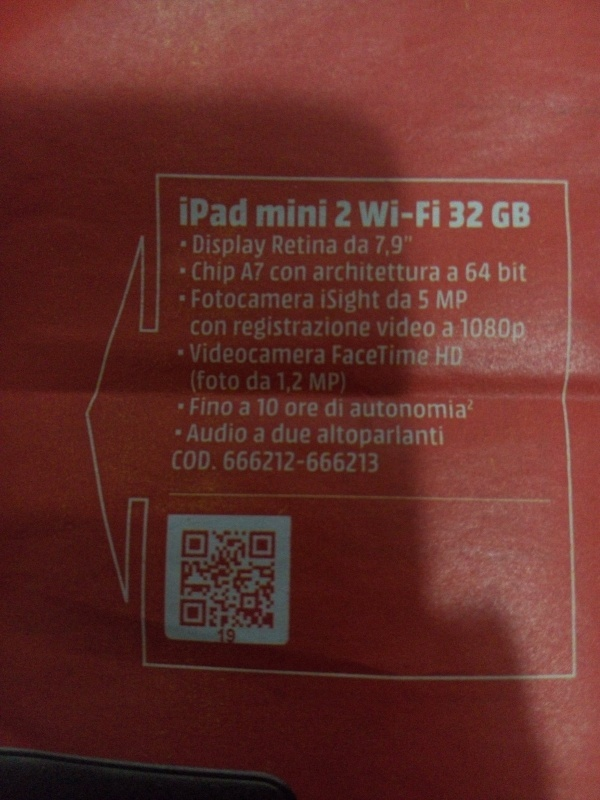text: (369, 196, 384, 230), (385, 196, 399, 230), (193, 196, 208, 227), (209, 196, 224, 227), (225, 196, 240, 227), (337, 200, 352, 231), (257, 198, 272, 228), (273, 198, 288, 228), (289, 198, 304, 228), (305, 198, 320, 228), (417, 199, 432, 227), (465, 202, 480, 229), (497, 203, 512, 230), (513, 203, 528, 230), (193, 368, 208, 394), (209, 368, 224, 394), (225, 368, 240, 394), (450, 202, 464, 229), (465, 321, 480, 346), (481, 321, 496, 346), (497, 321, 512, 346), (209, 234, 224, 259), (225, 234, 240, 259), (241, 234, 256, 259), (180, 196, 192, 227), (321, 423, 336, 447), (337, 423, 352, 447), (353, 423, 368, 447), (369, 423, 384, 447), (385, 423, 400, 447), (401, 423, 416, 447), (417, 423, 432, 447), (241, 317, 256, 341), (257, 317, 272, 341), (273, 317, 288, 341), (289, 317, 304, 341), (305, 317, 320, 341), (321, 317, 336, 341), (337, 317, 352, 341), (353, 317, 368, 341), (193, 287, 208, 311), (209, 287, 224, 311), (225, 287, 240, 311), (241, 287, 256, 311), (257, 287, 272, 311), (273, 287, 288, 311), (289, 287, 304, 311), (385, 232, 400, 256), (193, 450, 209, 472), (194, 234, 208, 259), (321, 451, 336, 474), (337, 451, 352, 474), (353, 451, 368, 474), (321, 372, 336, 395), (289, 370, 304, 393), (449, 287, 464, 310), (193, 262, 208, 285), (209, 262, 224, 285), (358, 196, 368, 230), (225, 451, 240, 473), (241, 451, 256, 473), (257, 451, 272, 473), (273, 451, 288, 473), (177, 450, 192, 472), (321, 261, 336, 283), (337, 261, 352, 283), (353, 261, 368, 283), (369, 261, 384, 283), (385, 261, 400, 283), (401, 261, 416, 283), (417, 261, 432, 283), (467, 258, 480, 283), (321, 235, 337, 255), (273, 424, 288, 445), (289, 424, 304, 445), (193, 396, 208, 417), (209, 396, 224, 417), (193, 345, 208, 366), (209, 345, 224, 366), (225, 345, 240, 366), (241, 345, 256, 366), (257, 345, 272, 366), (273, 345, 288, 366), (289, 345, 304, 366), (305, 345, 320, 366), (337, 345, 352, 366), (353, 345, 368, 366), (369, 345, 384, 366), (385, 345, 400, 366), (401, 345, 416, 366), (513, 263, 528, 284), (321, 290, 336, 311), (337, 290, 352, 311), (353, 290, 368, 311), (258, 396, 272, 418), (193, 424, 208, 444), (209, 424, 224, 444), (225, 424, 240, 444), (513, 321, 525, 346), (353, 235, 368, 255), (273, 235, 288, 255), (289, 235, 304, 255), (305, 235, 320, 255), (418, 290, 432, 311), (387, 289, 400, 311), (193, 318, 208, 337), (209, 318, 224, 337), (308, 451, 320, 474), (257, 372, 270, 393), (499, 263, 512, 284), (353, 402, 368, 420), (369, 402, 384, 420), (385, 402, 400, 420), (401, 402, 416, 420), (417, 402, 432, 420), (433, 402, 448, 420), (385, 320, 400, 338), (401, 320, 416, 338), (417, 320, 432, 338), (433, 423, 444, 447), (289, 401, 304, 418), (273, 265, 288, 282), (289, 265, 304, 282), (325, 396, 336, 419), (245, 260, 256, 283), (417, 345, 429, 366), (481, 258, 491, 283), (257, 234, 267, 259), (369, 290, 380, 311), (369, 451, 379, 474), (310, 372, 320, 395), (278, 370, 288, 393), (438, 287, 448, 310), (225, 262, 235, 285), (436, 347, 448, 366), (449, 347, 461, 366), (433, 199, 441, 227), (305, 401, 318, 418), (401, 289, 411, 311), (241, 196, 248, 227), (305, 287, 314, 311), (337, 372, 346, 395), (247, 372, 256, 393), (257, 260, 265, 283), (321, 198, 327, 228), (225, 629, 235, 647), (377, 232, 384, 256), (337, 396, 344, 419), (289, 451, 296, 473), (241, 403, 251, 418), (225, 396, 232, 417), (345, 235, 352, 255), (433, 261, 439, 283), (449, 267, 457, 283), (305, 424, 311, 445), (377, 320, 384, 338), (241, 424, 247, 444), (235, 317, 240, 341), (273, 396, 278, 418), (492, 203, 496, 230), (218, 629, 224, 647), (257, 429, 264, 443), (316, 261, 320, 283), (321, 345, 325, 366), (443, 323, 448, 339), (461, 321, 464, 346), (465, 287, 468, 310), (333, 345, 336, 366), (481, 202, 483, 229), (529, 203, 531, 230), (318, 423, 320, 447), (449, 323, 452, 339), (369, 317, 371, 341), (174, 450, 176, 472), (297, 460, 304, 466), (190, 345, 192, 366), (433, 320, 435, 338), (286, 401, 288, 418), (401, 232, 402, 256), (225, 318, 226, 337), (351, 402, 352, 420), (305, 265, 306, 282), (239, 403, 240, 418), (255, 429, 256, 443)
